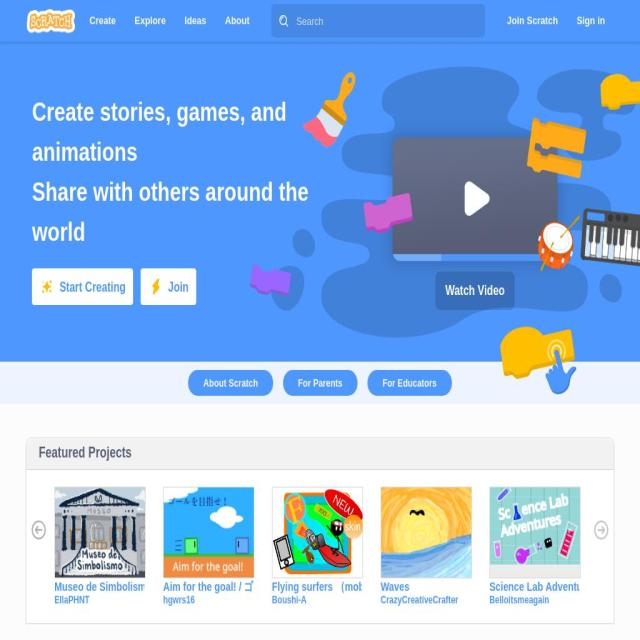button: (54, 487, 144, 578), (163, 487, 253, 578), (272, 487, 362, 578), (380, 487, 470, 578), (490, 487, 580, 578), (183, 362, 279, 404), (362, 362, 457, 404), (32, 268, 133, 305), (278, 362, 362, 404), (498, 0, 568, 42), (125, 0, 176, 42), (140, 268, 196, 305), (567, 0, 614, 42), (80, 0, 126, 42), (215, 0, 259, 42), (175, 0, 216, 42), (54, 580, 144, 594), (163, 580, 253, 594), (272, 580, 362, 594), (380, 580, 470, 594), (490, 580, 580, 594), (26, 513, 52, 547), (588, 513, 614, 547)
field: (271, 4, 486, 38)
heading: (32, 176, 309, 246), (32, 96, 287, 166), (39, 446, 132, 460)
image: (350, 106, 600, 294), (54, 486, 144, 576), (163, 486, 253, 576), (272, 486, 362, 576), (380, 486, 470, 576), (490, 486, 580, 576), (26, 0, 76, 42), (281, 14, 287, 27)
link: (381, 594, 458, 606), (490, 594, 550, 606), (54, 594, 90, 606), (272, 594, 306, 606), (163, 594, 195, 606)
text: (438, 274, 512, 307), (188, 370, 273, 396), (367, 370, 452, 396), (282, 370, 358, 396), (507, 14, 559, 27), (134, 14, 167, 27), (576, 14, 605, 27), (90, 14, 116, 27), (224, 14, 250, 27), (184, 14, 207, 27)
